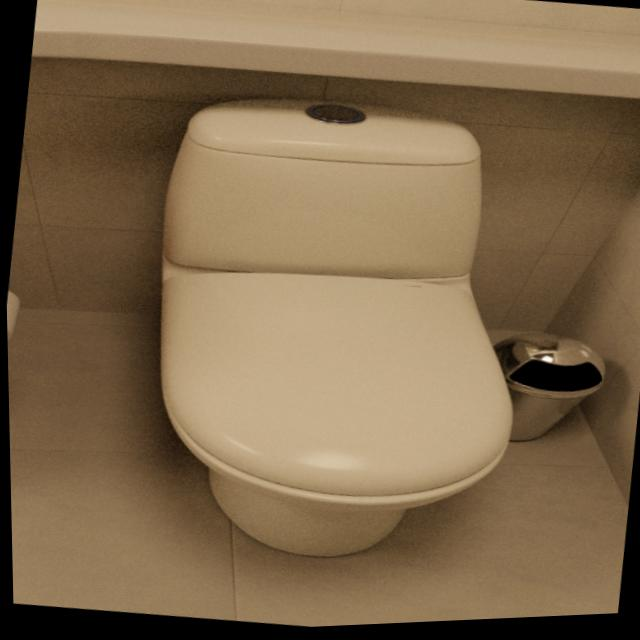toilet: (120, 76, 551, 589)
